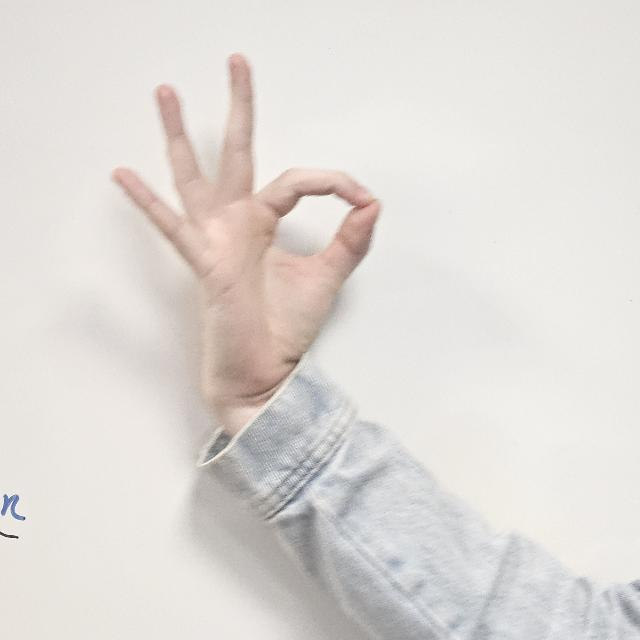Bolinha: (107, 51, 387, 390)
